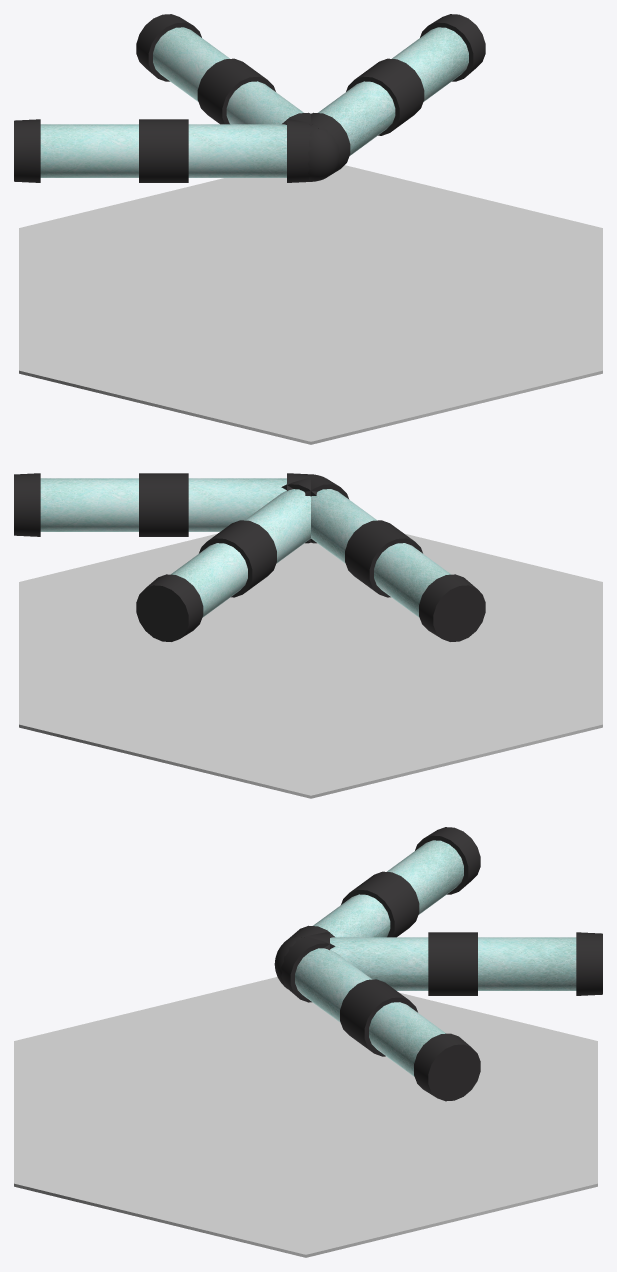
The model's file is tri3.FBX.
3 views of the same model, one above another, from view 1: azimuth 30°, elevation 25°; view 2: azimuth 150°, elevation 25°; view 3: azimuth 270°, elevation 25° (orthographic).
Visible parts, largest first — view 1: Cylinder024, Cylinder025, Cylinder027, Cylinder026, Sphere001; view 2: Cylinder024, Cylinder027, Cylinder025, Cylinder026; view 3: Cylinder024, Cylinder026, Cylinder027, Cylinder025.
Boxes of the visible parts, bbox=[...] form: Cylinder024: bbox=[19, 165, 602, 444]; Cylinder025: bbox=[14, 119, 313, 182]; Cylinder027: bbox=[309, 14, 485, 174]; Cylinder026: bbox=[136, 14, 314, 125]; Sphere001: bbox=[308, 125, 340, 181]; Cylinder024: bbox=[19, 533, 602, 798]; Cylinder027: bbox=[14, 473, 313, 536]; Cylinder025: bbox=[304, 475, 485, 641]; Cylinder026: bbox=[136, 476, 317, 641]; Cylinder024: bbox=[14, 977, 597, 1257]; Cylinder026: bbox=[303, 932, 602, 995]; Cylinder027: bbox=[281, 935, 480, 1101]; Cylinder025: bbox=[287, 827, 480, 939].
Size of the model in its own units: 100 by 29.5 by 87.35.
Materials: 2 (2 with a texture image).
